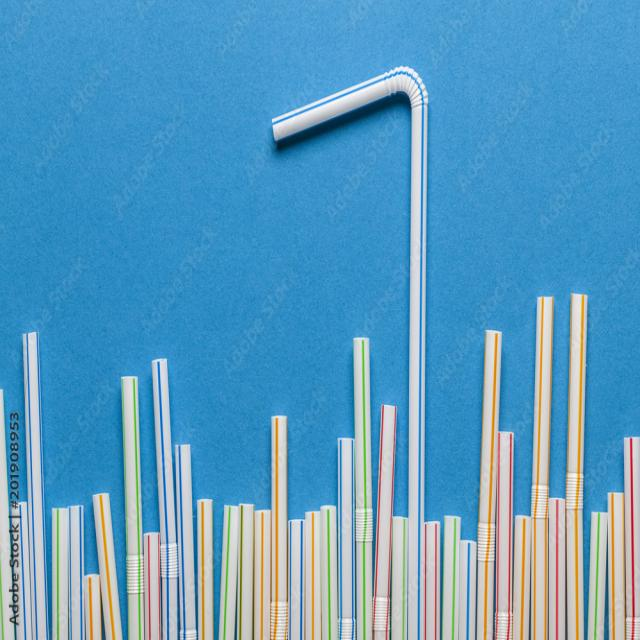plastic: (243, 26, 461, 340)
